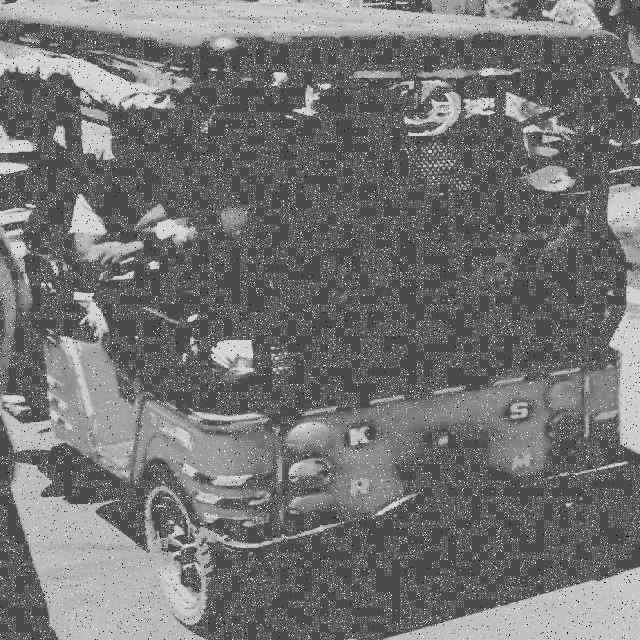Toto: (0, 0, 635, 613)
